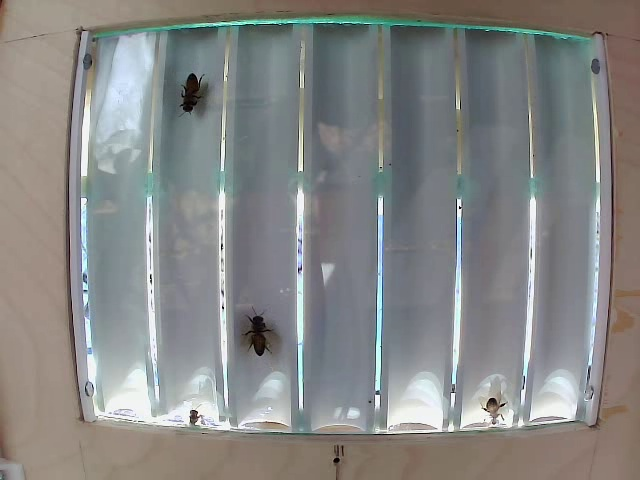bee: (234, 300, 275, 356), (168, 72, 202, 110), (479, 390, 509, 431)
